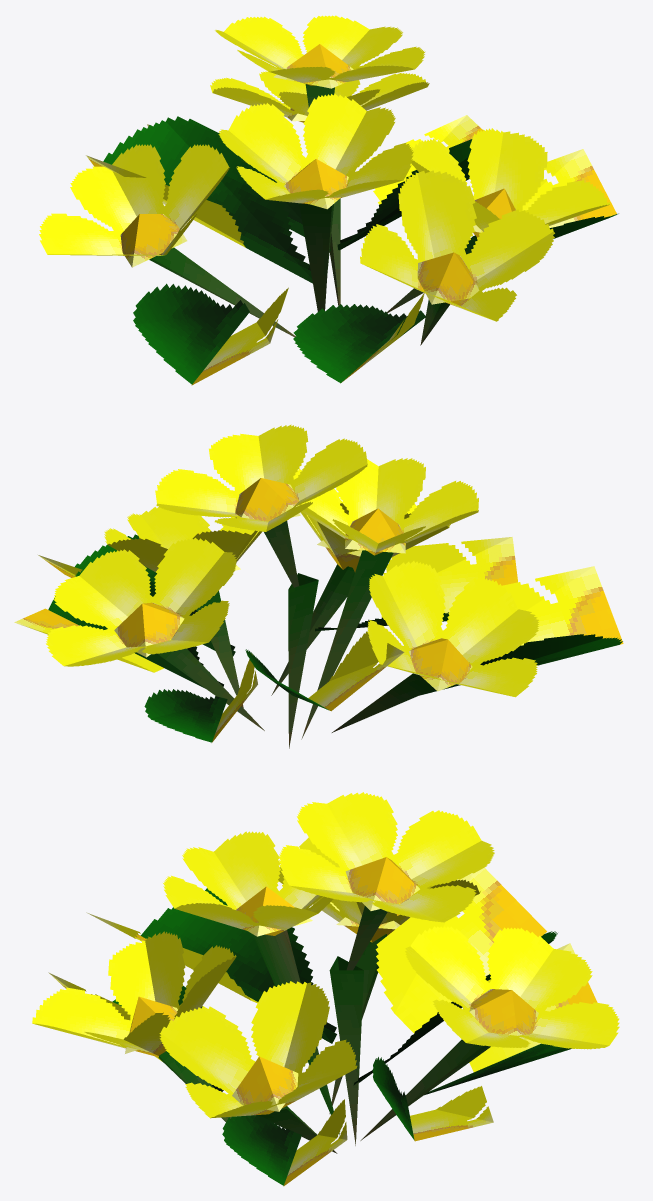
File: Flower.dae
3 views of the same model, one above another, from view 1: azimuth 30°, elevation 25°; view 2: azimuth 150°, elevation 25°; view 3: azimuth 270°, elevation 25° (orthographic). The views are drawn at different scales.
Visible parts, largest first — view 1: m0; view 2: m0; view 3: m0.
Boxes of the visible parts, bbox=[...] form: m0: bbox=[39, 15, 618, 385]; m0: bbox=[14, 424, 623, 748]; m0: bbox=[32, 792, 619, 1186].
Size of the model in its own units: 183 by 99.62 by 174.
Materials: 1 (1 with a texture image).
